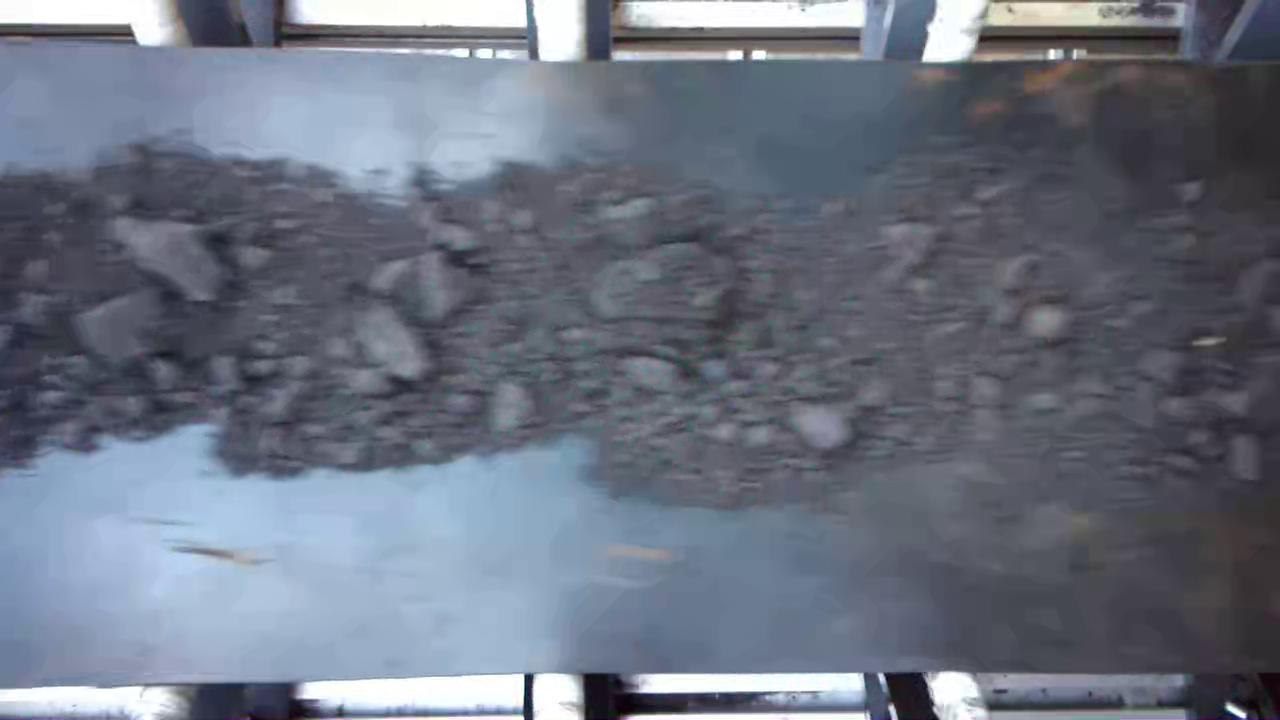conveyor: (8, 66, 1280, 660)
